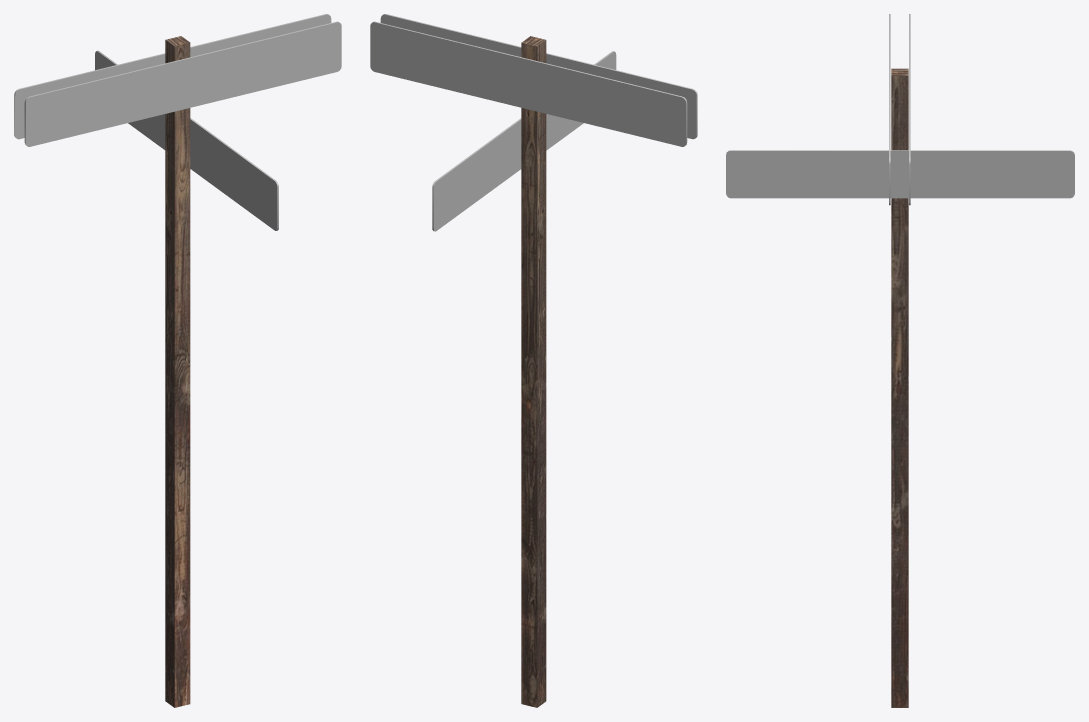
File: YOS_Sign_14.fbx
The picture shows the model from 3 angles, left to right: view 1: azimuth 30°, elevation 25°; view 2: azimuth 150°, elevation 25°; view 3: azimuth 270°, elevation 25°; orthographic projection. The views are drawn at different scales.
Parts seen in each view (by area): view 1: Village_Dr_2, WoodPost_2, Northside_Dr, Village_Dr; view 2: Village_Dr, WoodPost_2, Northside_Dr, Village_Dr_2; view 3: Northside_Dr, WoodPost_2.
Boxes of the visible parts, left/top/right/bottom form: Village_Dr_2: left=24, top=21, right=341, bottom=146; WoodPost_2: left=165, top=36, right=190, bottom=707; Northside_Dr: left=95, top=50, right=278, bottom=230; Village_Dr: left=14, top=14, right=331, bottom=139; Village_Dr: left=370, top=21, right=687, bottom=146; WoodPost_2: left=521, top=36, right=546, bottom=707; Northside_Dr: left=432, top=51, right=616, bottom=231; Village_Dr_2: left=380, top=14, right=697, bottom=139; Northside_Dr: left=726, top=150, right=1074, bottom=198; WoodPost_2: left=891, top=68, right=908, bottom=707.
Bounding box in the file's own units: 100 × 200 × 100.
